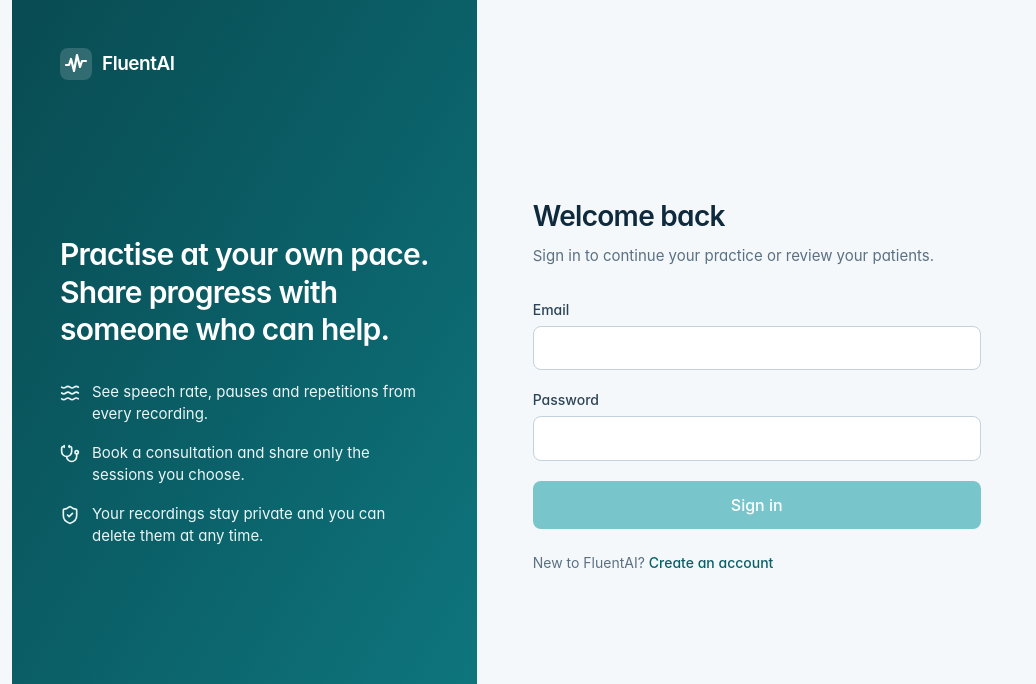
auth flows › reports a friendly message when the server is unreachable
Type "a@b.com" into the field labelled "Email". click: x=757, y=348
box: [533, 326, 981, 370]
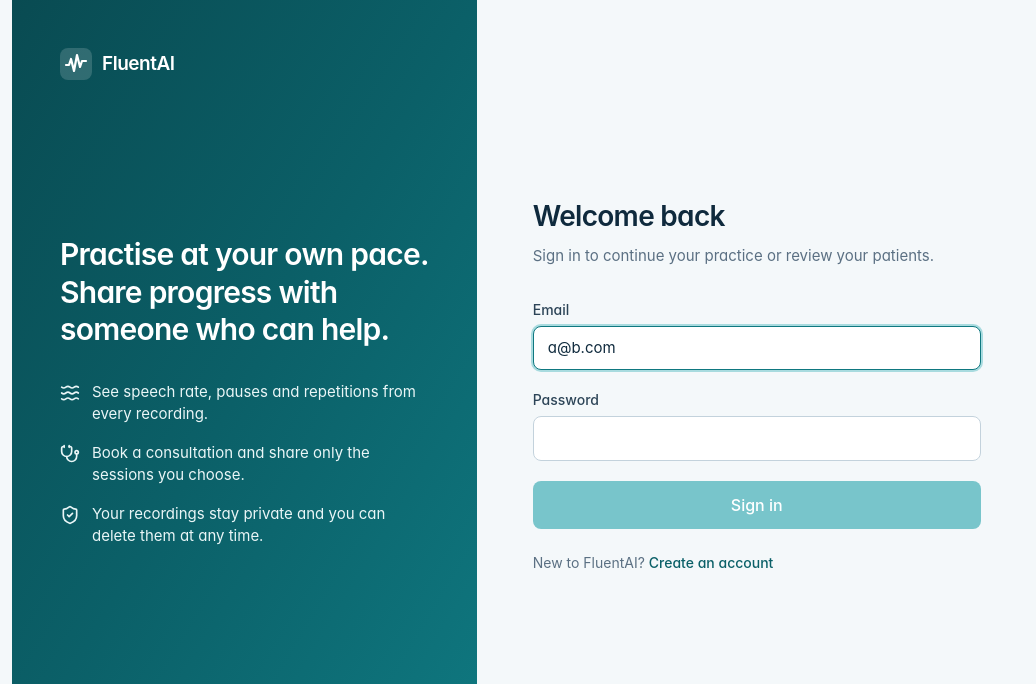
Type "whatever1" into the password field labelled "Password". click: x=757, y=439
box: [533, 416, 981, 461]
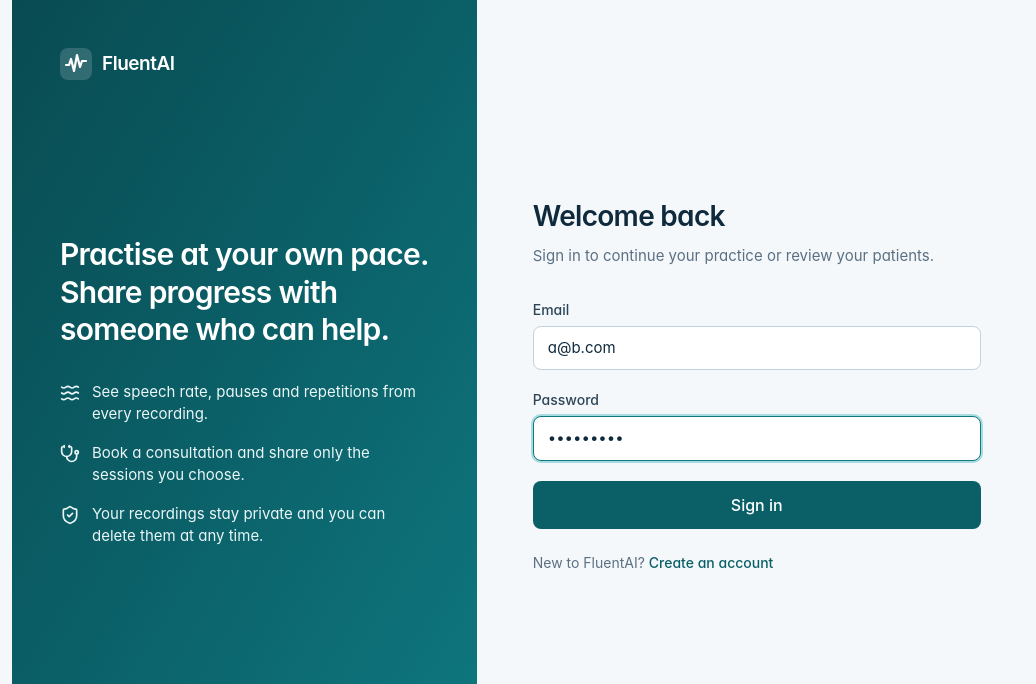
Click the button "Sign in". click: x=757, y=505
box: [533, 481, 981, 529]
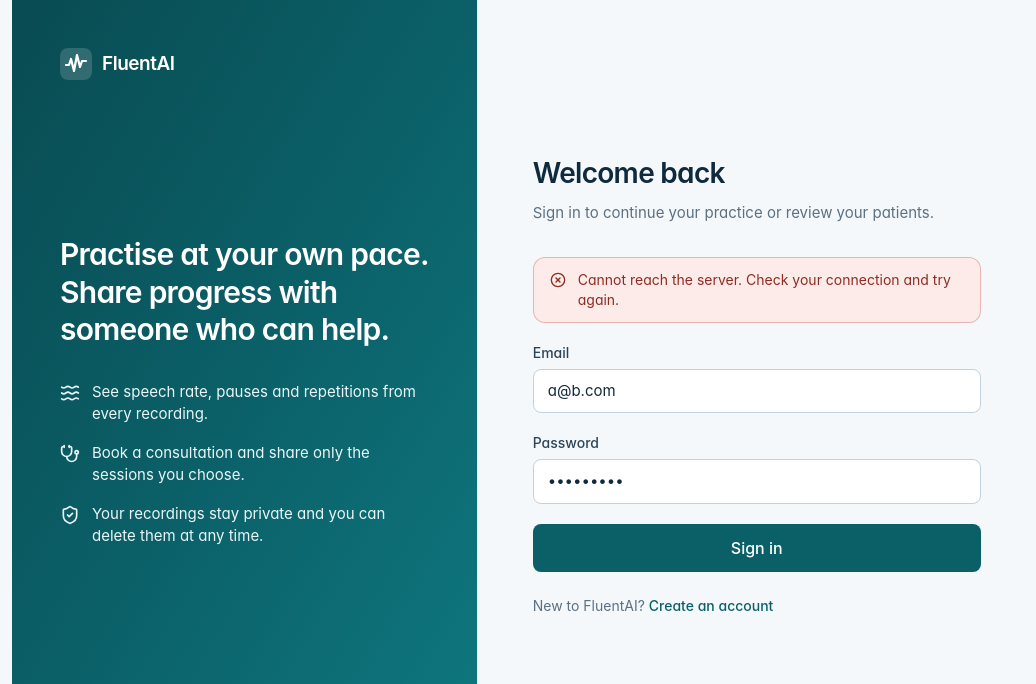
Now the message shows "Cannot reach the server", box [578, 271, 951, 308]
